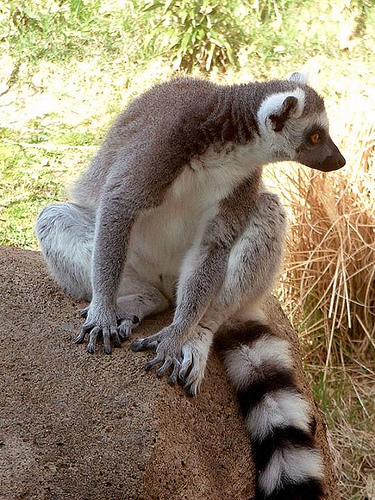cat: (40, 77, 347, 498)
